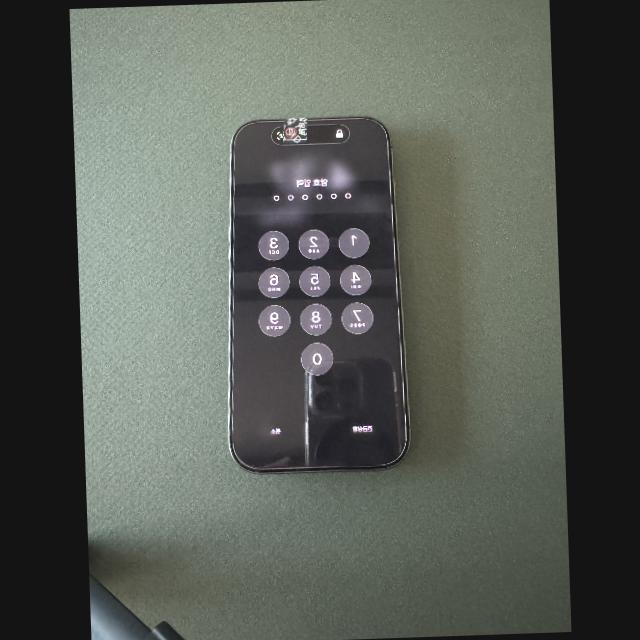phone: (229, 116, 411, 473)
sticker: (282, 117, 308, 143)
